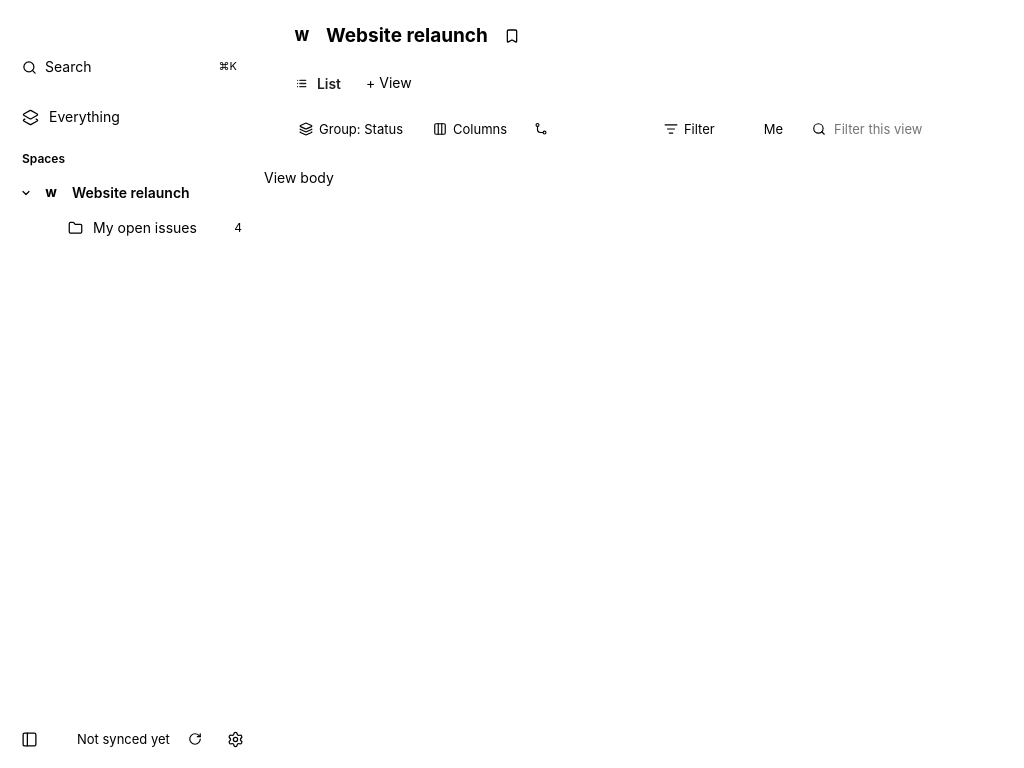
Test: SidebarToggle › stays the same focused element when the sidebar is toggled away
This screenshot has width=1024, height=768.
Check: the element named "Sidebar" is shown, box x1=0 y1=0 x2=264 y2=767
Step 1. Click the button named "Hide sidebar" → click(29, 739), box x1=12 y1=722 x2=46 y2=756
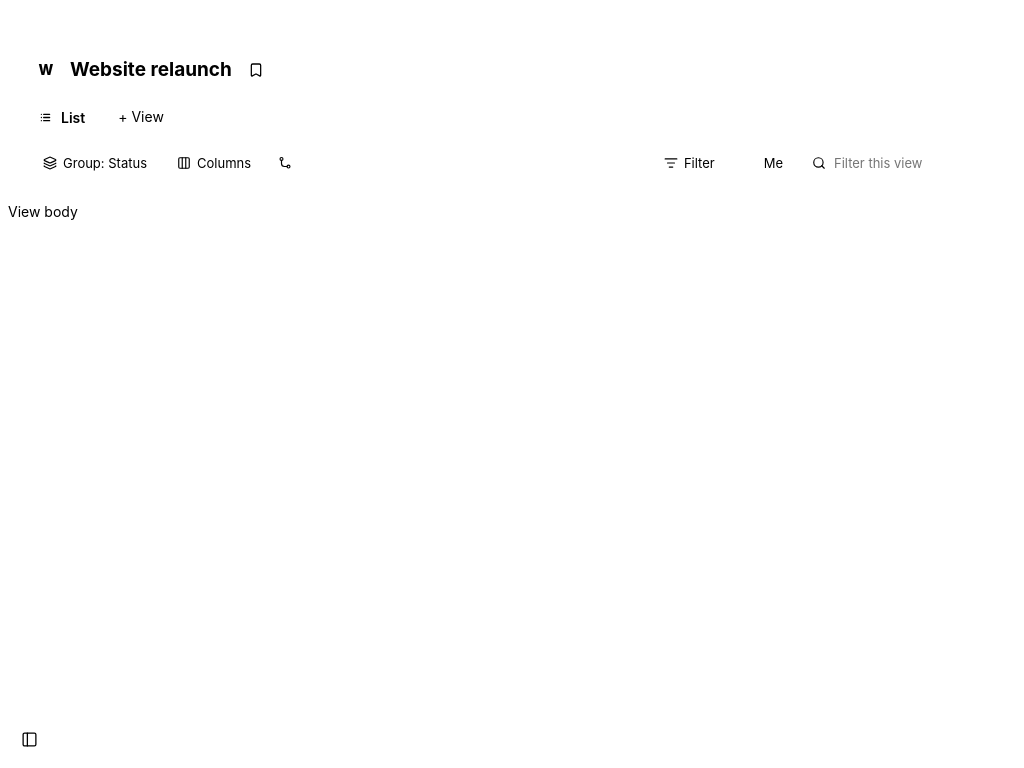
Check: the element "Sidebar" is gone
